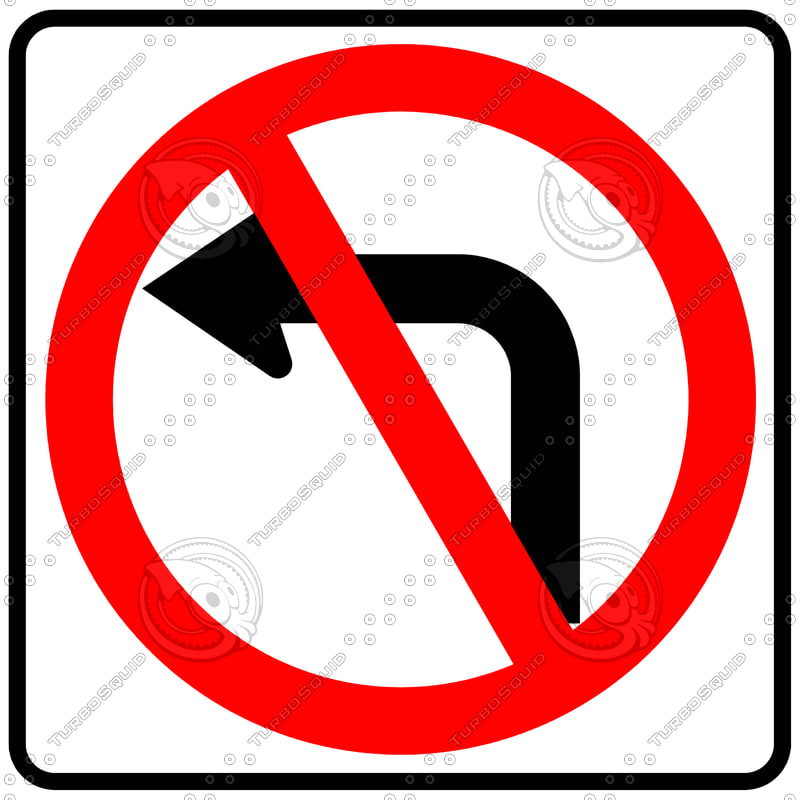No_left_turn: (46, 42, 760, 757)
